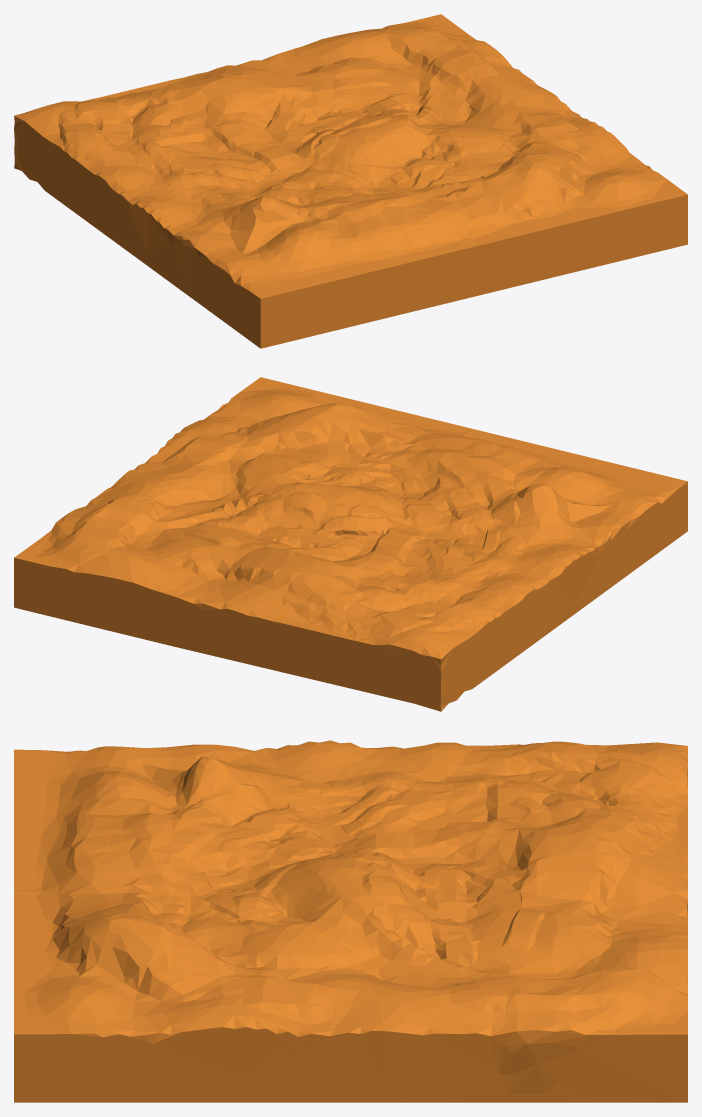
Rendered from floor.glb.
The picture shows the model from 3 angles, top to bottom: view 1: azimuth 30°, elevation 25°; view 2: azimuth 150°, elevation 25°; view 3: azimuth 270°, elevation 25°; orthographic projection. The views are drawn at different scales.
Parts seen in each view (by area): view 1: Cube-col; view 2: Cube-col; view 3: Cube-col.
Boxes of the visible parts, x1,y1,x2,y2 form: Cube-col: (14, 14, 687, 348); Cube-col: (14, 377, 687, 711); Cube-col: (14, 740, 687, 1102).
Bounding box in the file's own units: 280 × 49.66 × 277.
